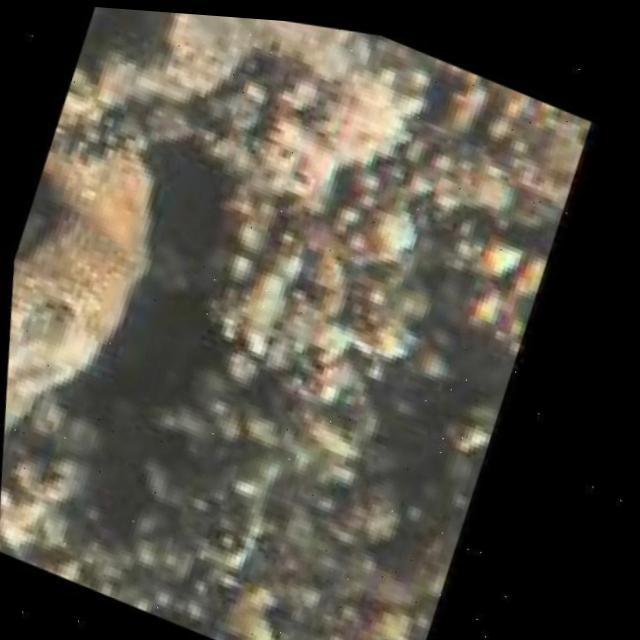Healthy Coral: (0, 102, 173, 466)
